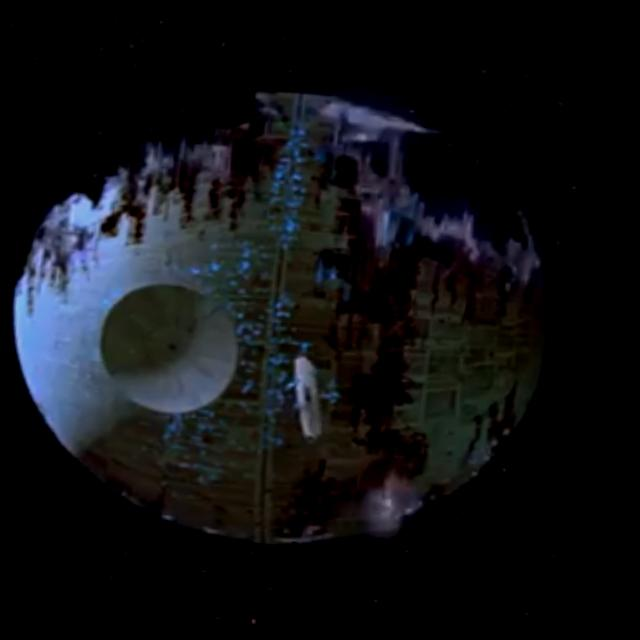deathStar: (1, 66, 579, 563)
